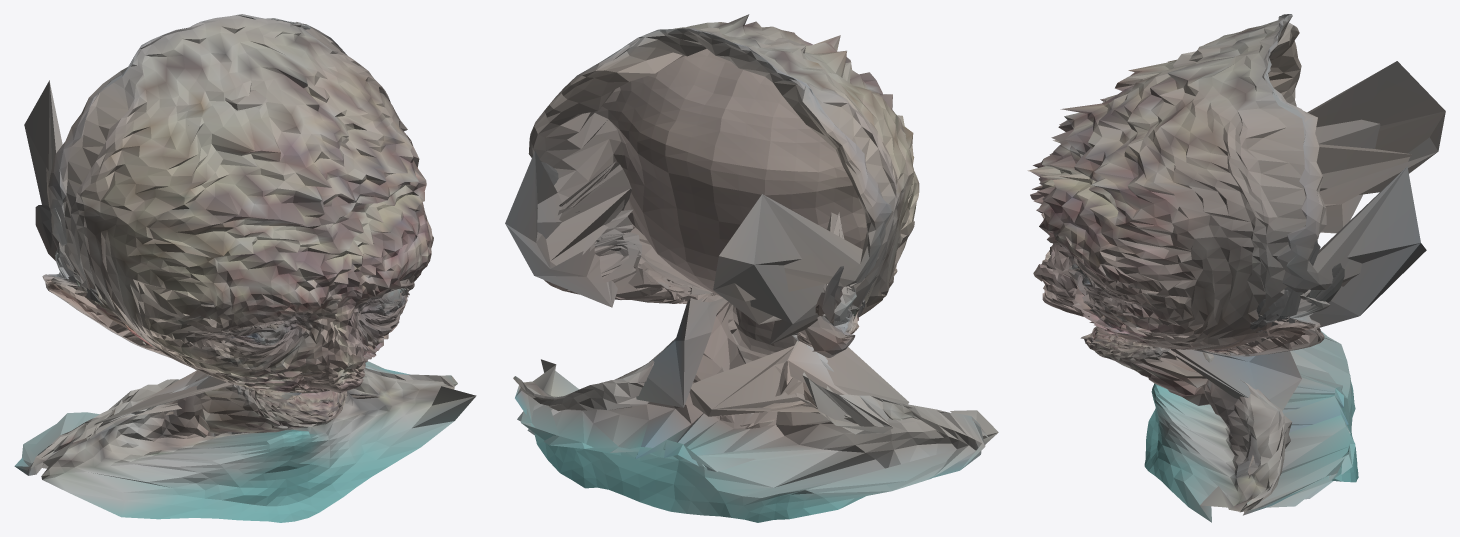
Rendered from chibi_textured_mesh.obj.
3 views of the same model, side by side, from view 1: azimuth 30°, elevation 25°; view 2: azimuth 150°, elevation 25°; view 3: azimuth 270°, elevation 25° (orthographic). The views are drawn at different scales.
Size of the model in its own units: 0.327 by 0.3176 by 0.2839.
